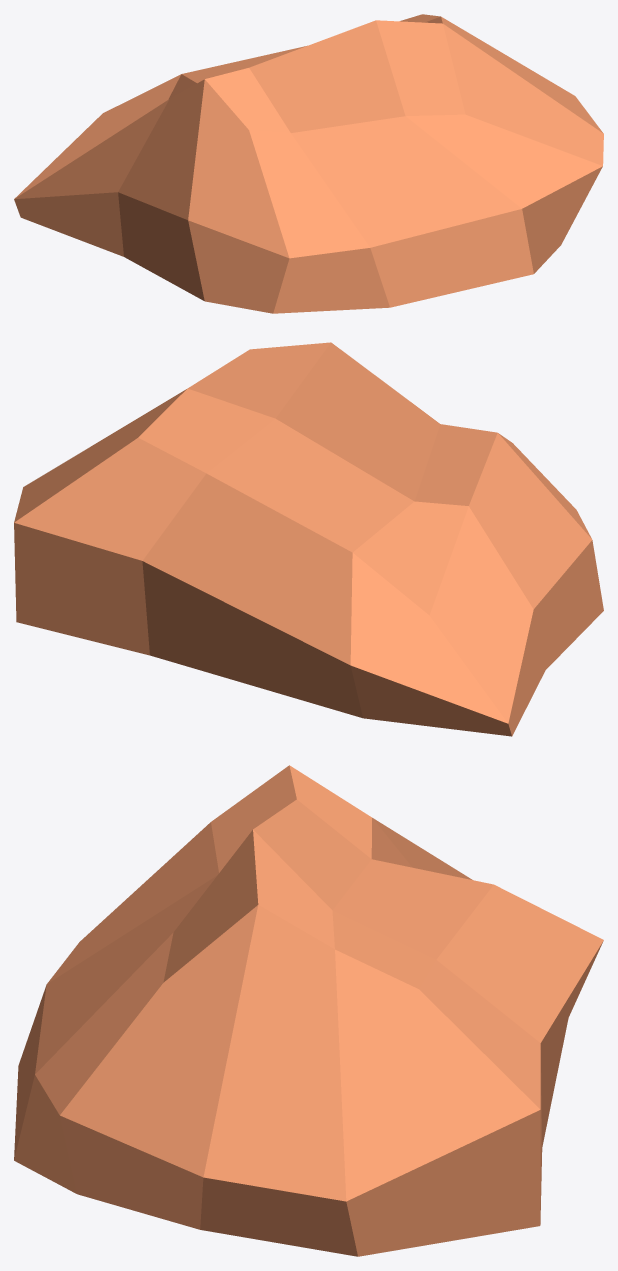
File: Rock_7.fbx
3 renders of one model, top to bottom at view 1: azimuth 30°, elevation 25°; view 2: azimuth 150°, elevation 25°; view 3: azimuth 270°, elevation 25°, orthographic. The views are drawn at different scales.
Visible parts, largest first — view 1: Rock_7; view 2: Rock_7; view 3: Rock_7.
Boxes of the visible parts, x1,y1,x2,y2 form: Rock_7: (14,14,603,313); Rock_7: (14,342,603,736); Rock_7: (14,765,603,1256).
Size of the model in its own units: 73.63 by 29.69 by 55.91.
